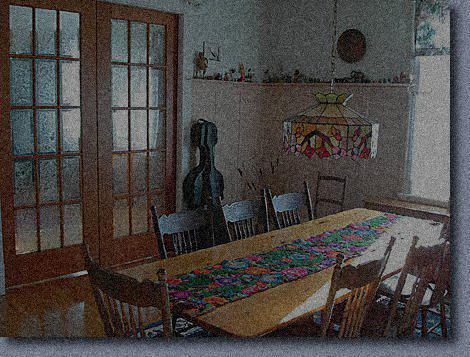Puerta: (3, 5, 175, 257)
